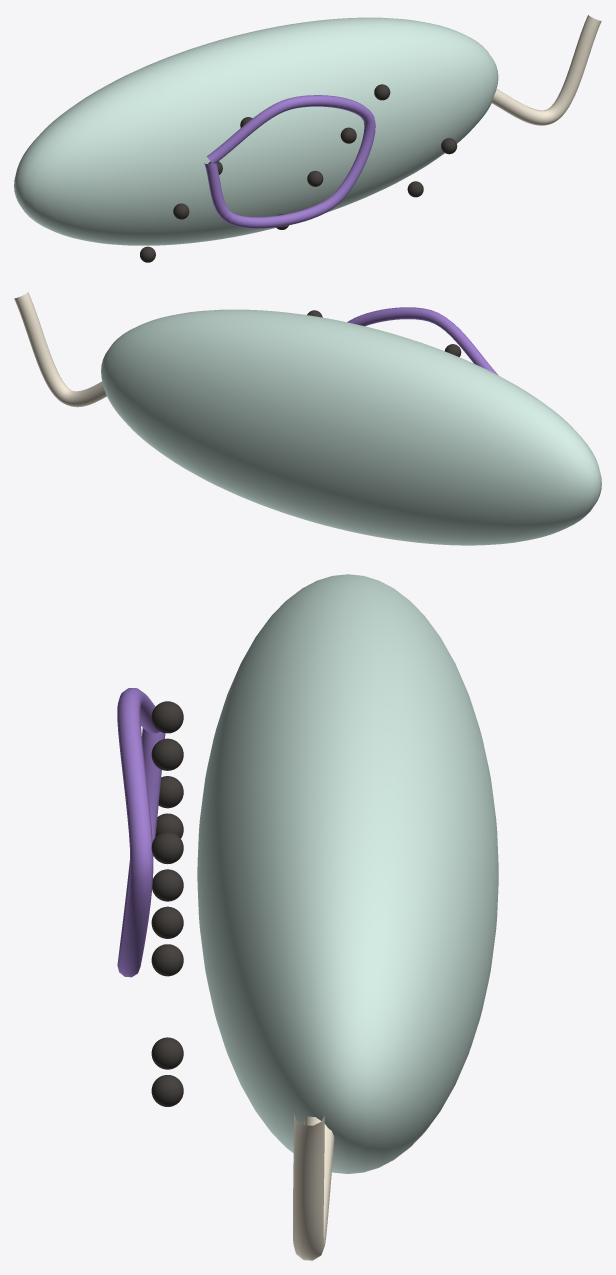
File: bacterial-cell.glb
The picture shows the model from 3 angles, top to bottom: view 1: azimuth 30°, elevation 25°; view 2: azimuth 150°, elevation 25°; view 3: azimuth 270°, elevation 25°; orthographic projection. The views are drawn at different scales.
Visible parts, largest first — view 1: capsule-outer-coat, looped-bacterial-dna-nucleoid, flagellum-tail; view 2: capsule-outer-coat, flagellum-tail, looped-bacterial-dna-nucleoid; view 3: capsule-outer-coat, looped-bacterial-dna-nucleoid, flagellum-tail.
Part boxes in pixels (left/top/right/bottom): capsule-outer-coat: left=14, top=17, right=498, bottom=245; looped-bacterial-dna-nucleoid: left=204, top=95, right=375, bottom=228; flagellum-tail: left=492, top=15, right=601, bottom=125; capsule-outer-coat: left=101, top=309, right=601, bottom=545; flagellum-tail: left=14, top=292, right=106, bottom=407; looped-bacterial-dna-nucleoid: left=347, top=307, right=498, bottom=375; capsule-outer-coat: left=197, top=574, right=498, bottom=1173; looped-bacterial-dna-nucleoid: left=117, top=688, right=165, bottom=977; flagellum-tail: left=293, top=1113, right=334, bottom=1260.
Size of what is drawn, in the model's own units: 2.06 by 0.6448 by 0.5924.
